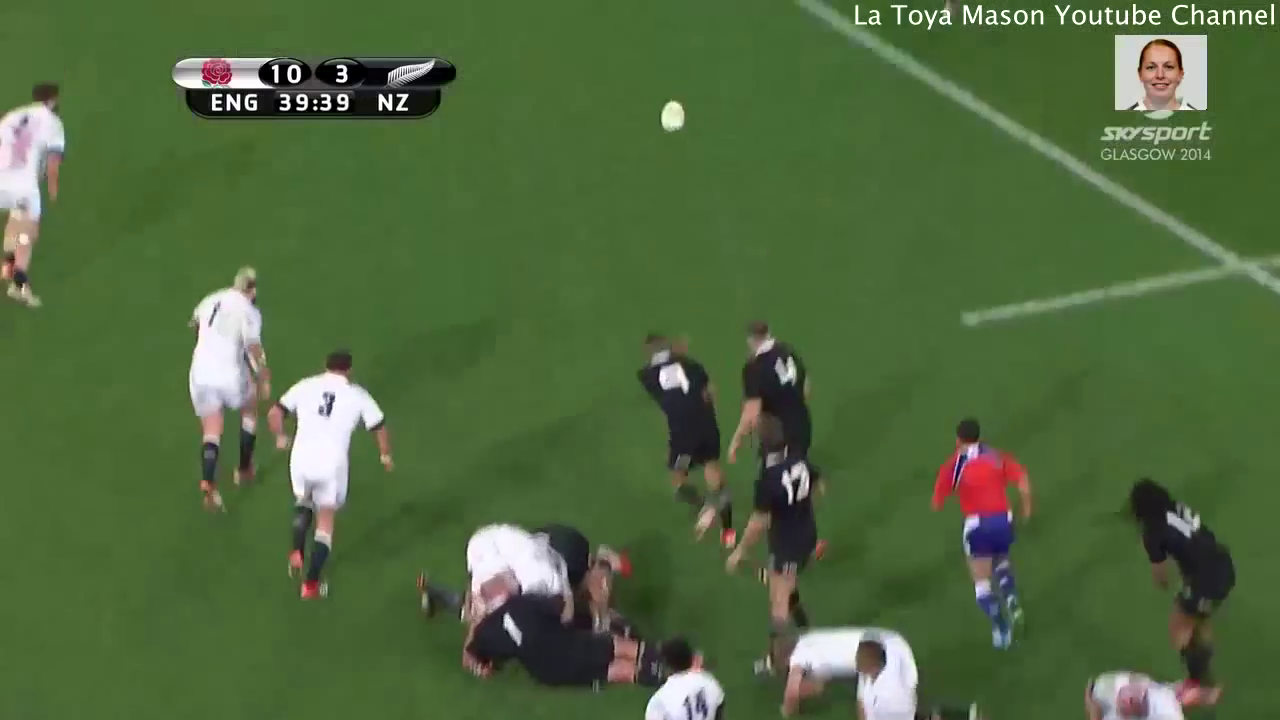ball: (651, 88, 697, 143)
player: (259, 338, 400, 612), (450, 571, 729, 701), (919, 404, 1053, 674), (1113, 464, 1244, 711), (609, 321, 745, 556), (714, 410, 830, 681), (175, 252, 288, 529), (756, 609, 995, 720), (417, 504, 587, 658), (721, 297, 832, 505), (1, 71, 69, 320), (1052, 647, 1213, 720), (625, 625, 742, 720), (843, 624, 936, 720)
